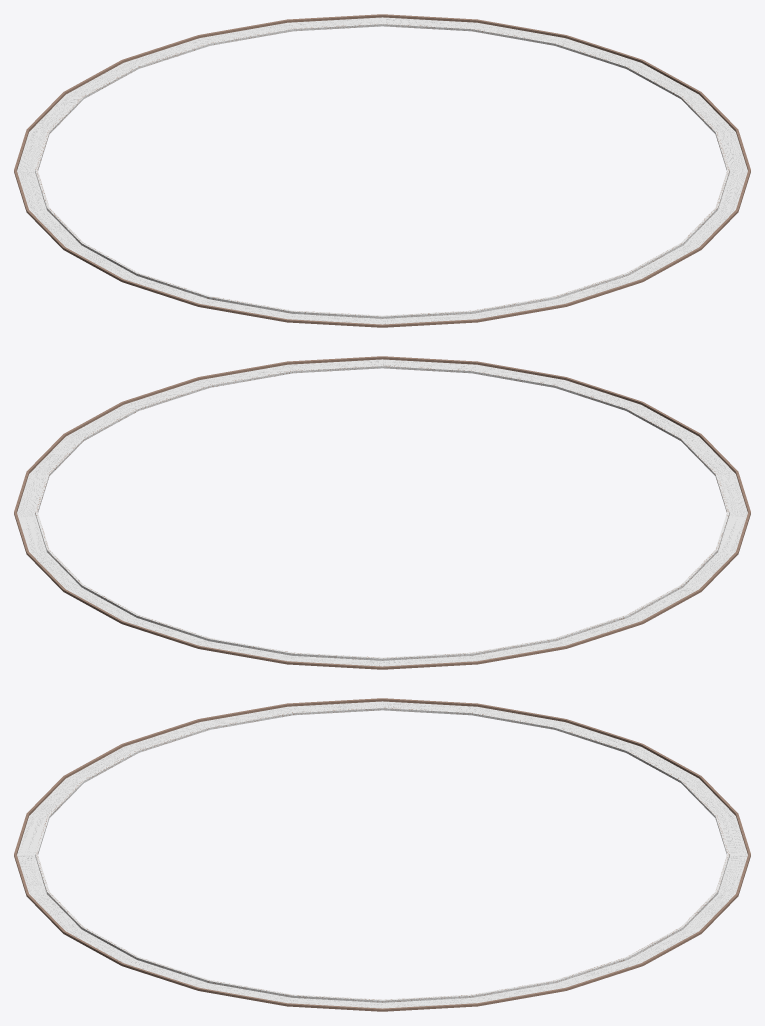
File: circuit_oval_backup.dae
The picture shows the model from 3 angles, top to bottom: view 1: azimuth 30°, elevation 25°; view 2: azimuth 150°, elevation 25°; view 3: azimuth 270°, elevation 25°; orthographic projection.
Visible parts, largest first — view 1: SketchUp (×11); view 2: SketchUp (×11); view 3: SketchUp (×11).
Boxes of the visible parts, x1,y1,x2,y2 form: SketchUp (×11): (14,14,750,327); SketchUp (×11): (14,356,750,669); SketchUp (×11): (14,698,750,1011).
Bounding box in the file's own units: 1220 × 1220 × 3.94.
